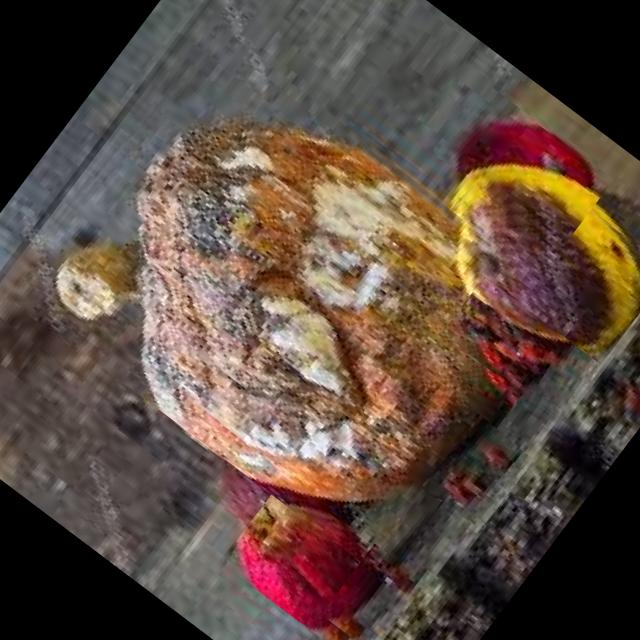Organic: (1, 14, 590, 578), (411, 131, 640, 383), (220, 463, 415, 640), (430, 81, 614, 252), (442, 276, 604, 424), (422, 412, 536, 530), (321, 543, 419, 640)
